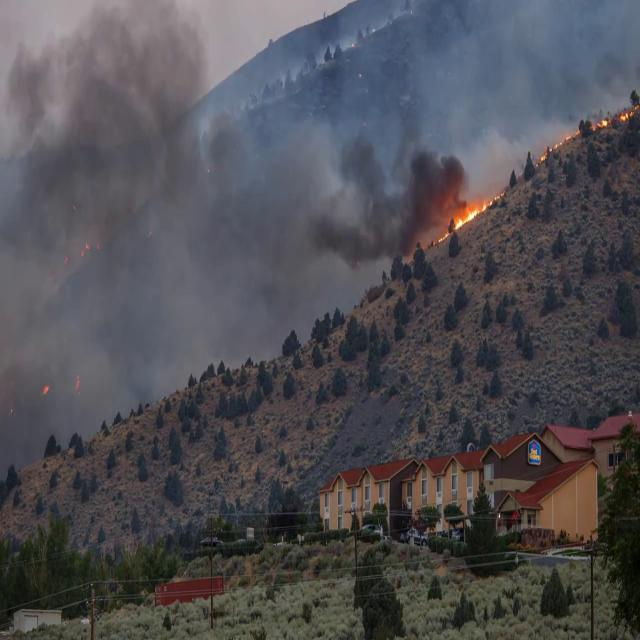Fire: (435, 192, 504, 241), (536, 138, 560, 164), (621, 103, 639, 121), (566, 128, 582, 143), (78, 240, 90, 258), (592, 118, 608, 128), (72, 376, 80, 390), (42, 385, 49, 393)
Smoke: (148, 3, 206, 202), (153, 236, 211, 394), (76, 74, 144, 202), (2, 41, 57, 148), (408, 150, 459, 255), (466, 122, 530, 198), (340, 134, 402, 210), (314, 212, 406, 260), (84, 358, 140, 435), (309, 34, 357, 62)
